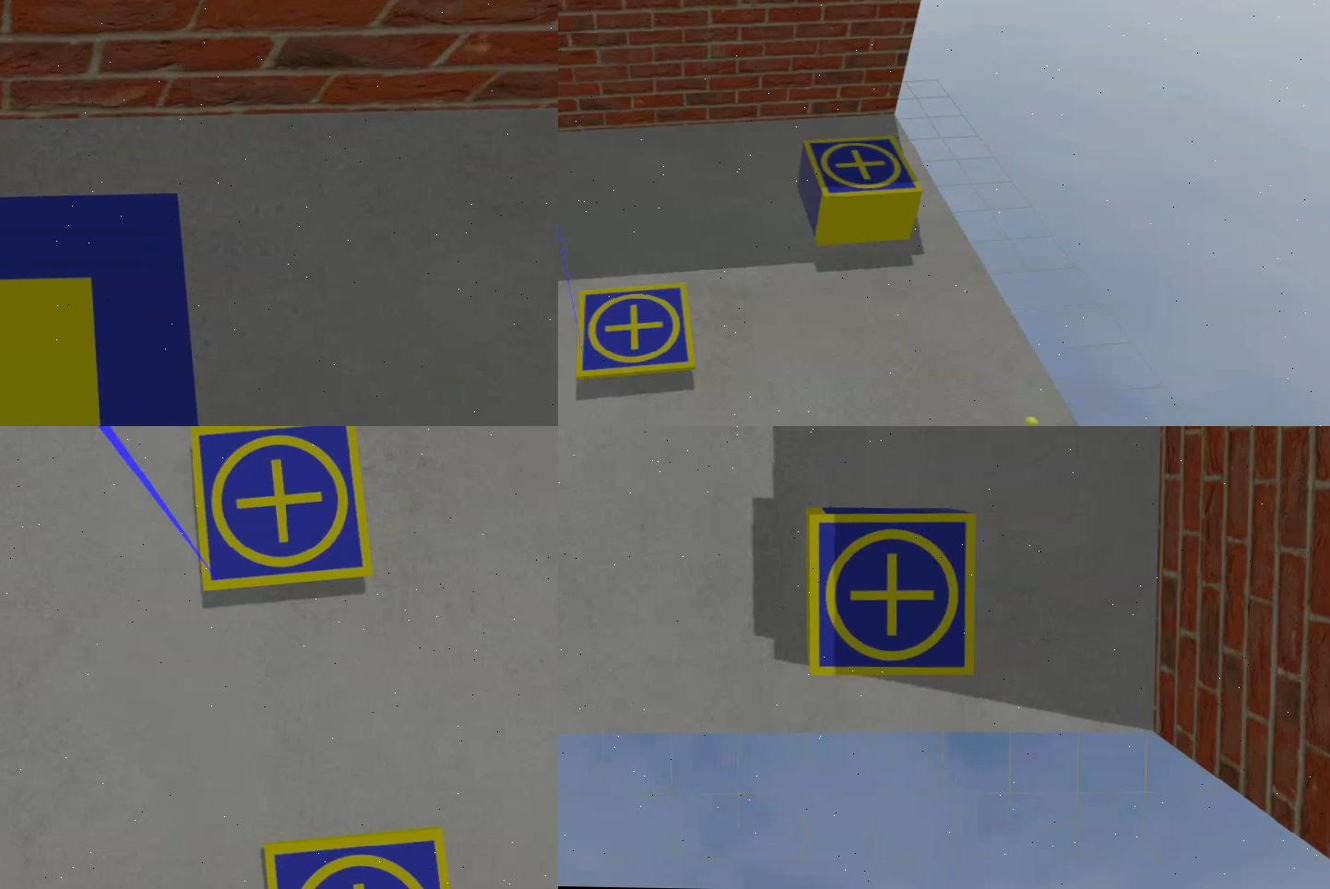large_base: (1, 181, 242, 427)
small_base: (184, 427, 381, 601), (806, 509, 981, 681), (263, 822, 457, 889), (571, 285, 695, 379), (802, 134, 928, 200)
